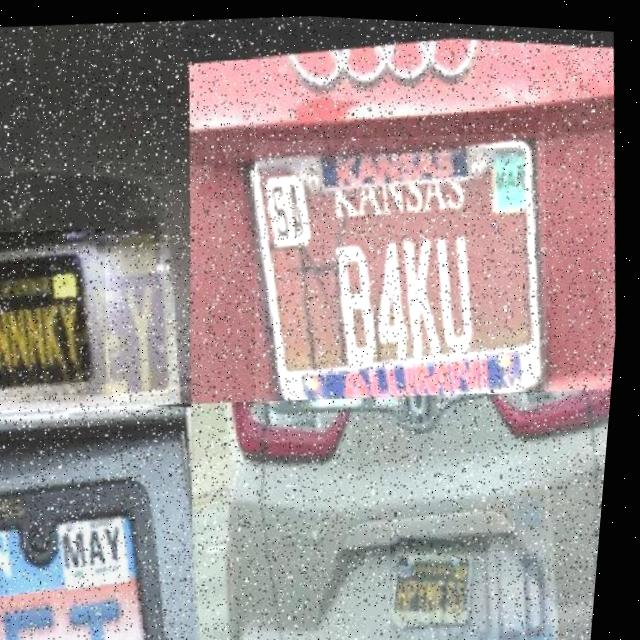LicensePlate: (257, 127, 552, 393), (0, 421, 221, 640), (0, 222, 123, 404), (392, 522, 505, 628)
